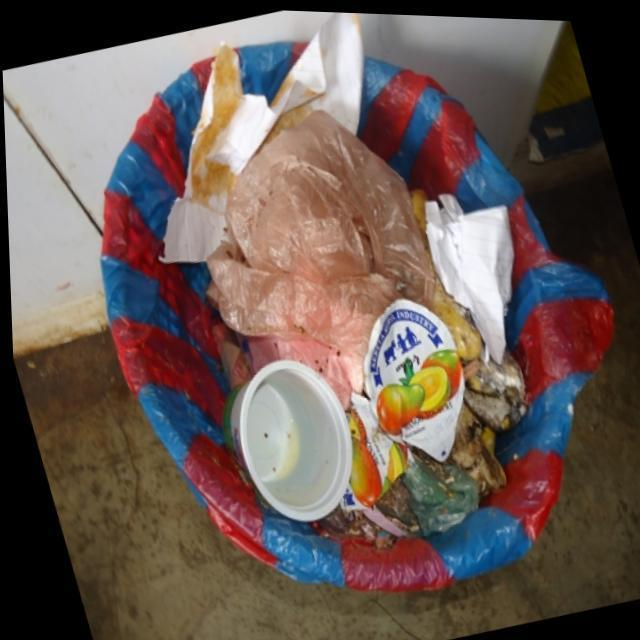Garbage: (161, 10, 523, 547)
Metal: (360, 296, 460, 458)
Plastic_Bag: (205, 107, 432, 405), (372, 447, 473, 532)
Plastic_Container: (219, 357, 349, 518)
Plastic_wraper: (336, 390, 404, 508)
